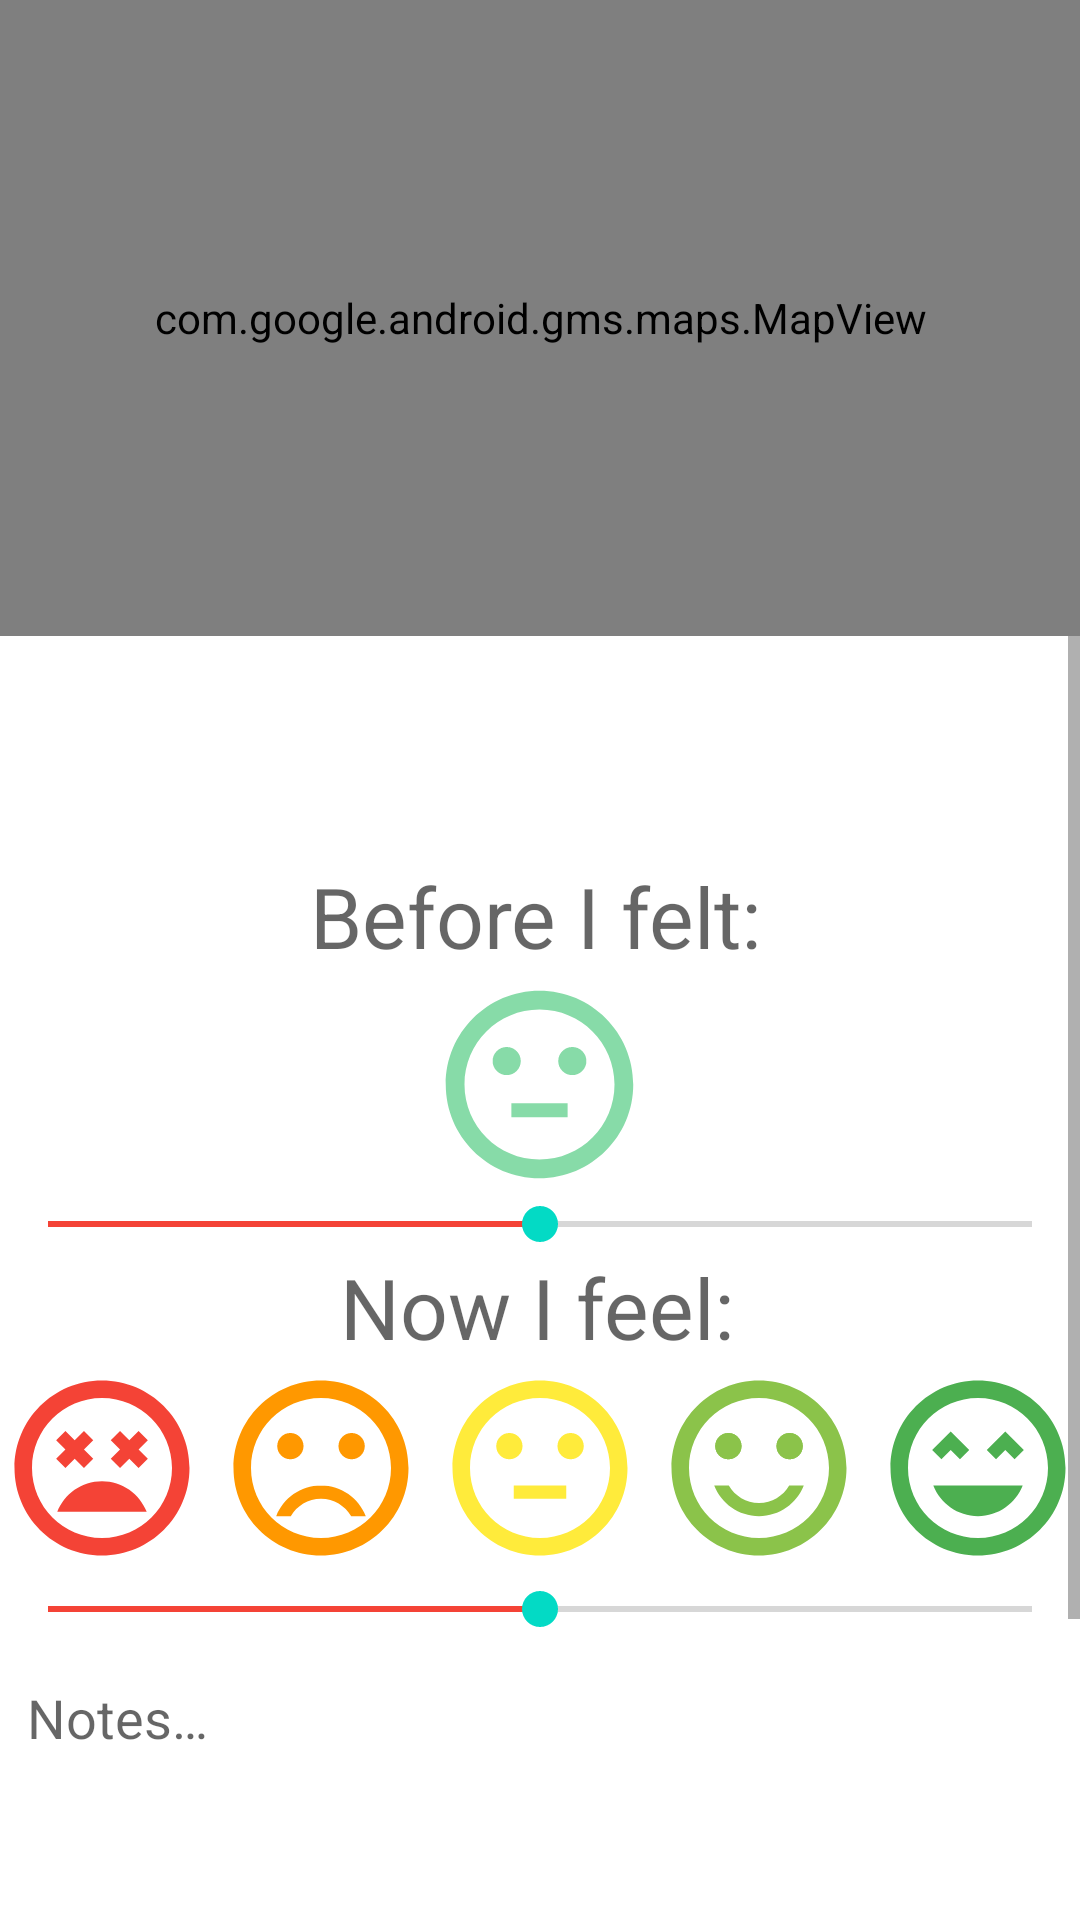

Point at icon controls on the screen. Image size 1080x1920, points as [x,y].
mood: [102,1468], [321,1468], [540,1468], [759,1468], [978,1468]
